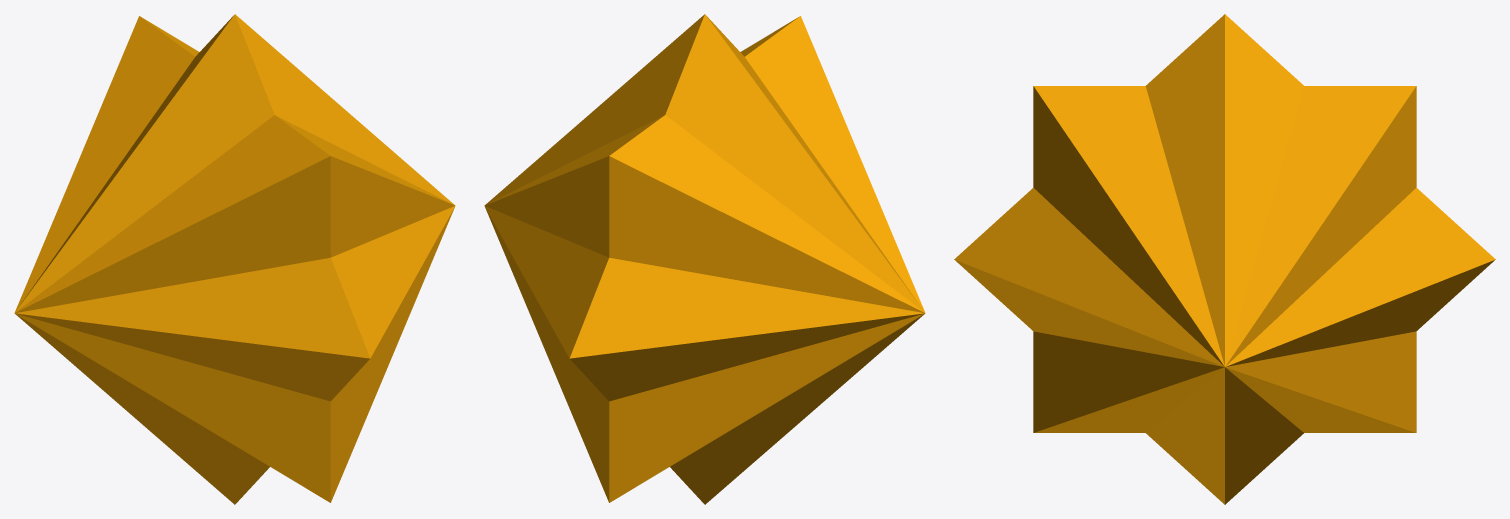
Rendered from item_essence_attack.fbx.
3 renders of one model, left to right at view 1: azimuth 30°, elevation 25°; view 2: azimuth 150°, elevation 25°; view 3: azimuth 270°, elevation 25°, orthographic.
Parts seen in each view (by area): view 1: Plane; view 2: Plane; view 3: Plane.
Boxes of the visible parts, box(x1,y1,x2,y2) form: Plane: box(14, 14, 455, 504); Plane: box(484, 14, 925, 504); Plane: box(954, 14, 1495, 504).
Bounding box in the file's own units: 266 × 283 × 283.
